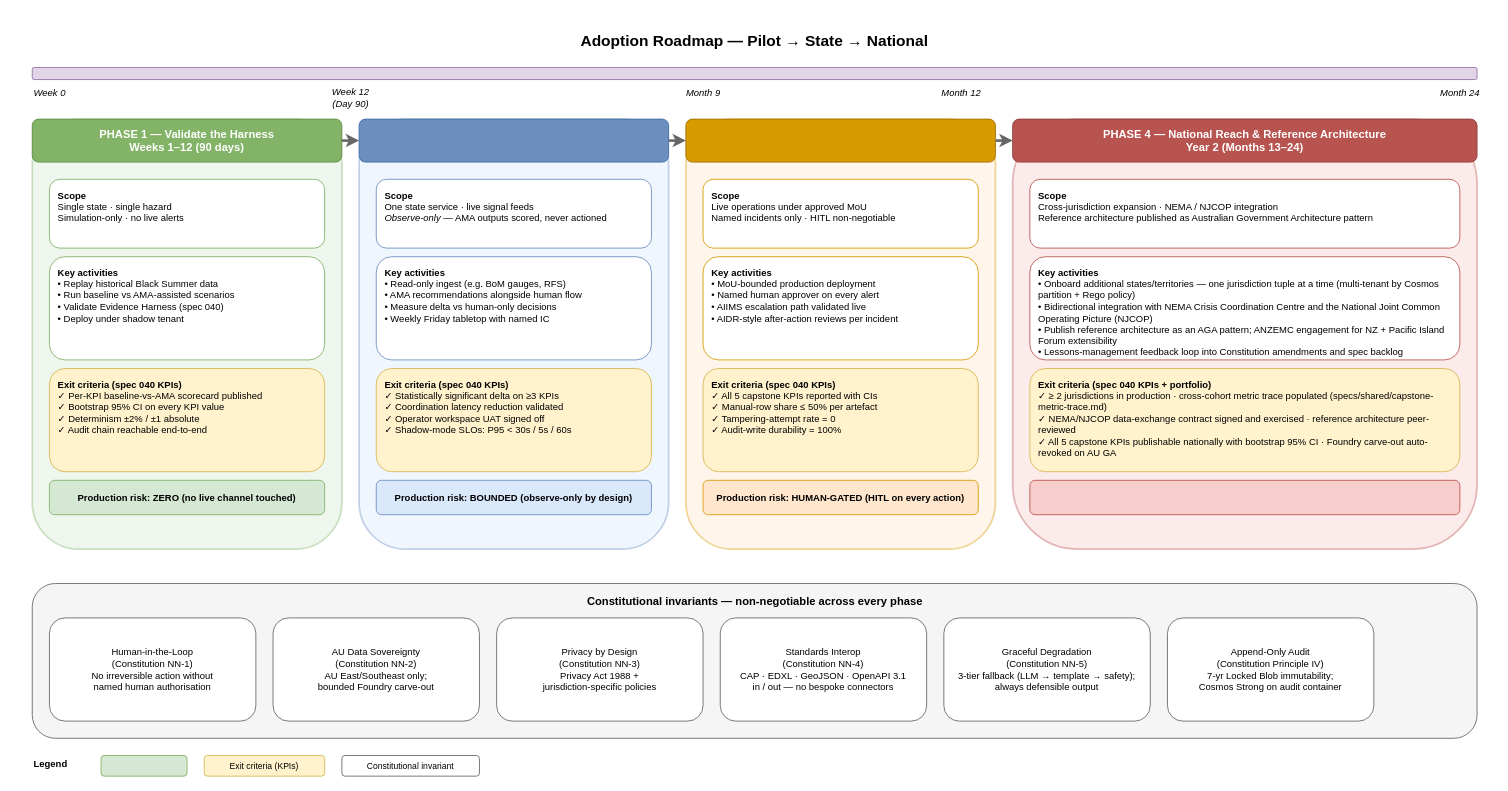
Image size: 1508x791. Some labels were removed from this diagram. The shapes that lost their labels are listed below. From the top down, each one's centre as x and y in pixels, then its label:
point (513, 140): PHASE 2 — Shadow-Mode Live Months 4–9 (180 days)
point (840, 140): PHASE 3 — Named-Incident Live Months 10–12 (90 days)
point (1244, 497): Production risk: FEDERATED (per-jurisdiction governance, peer not hub)
point (143, 765): Phase band
